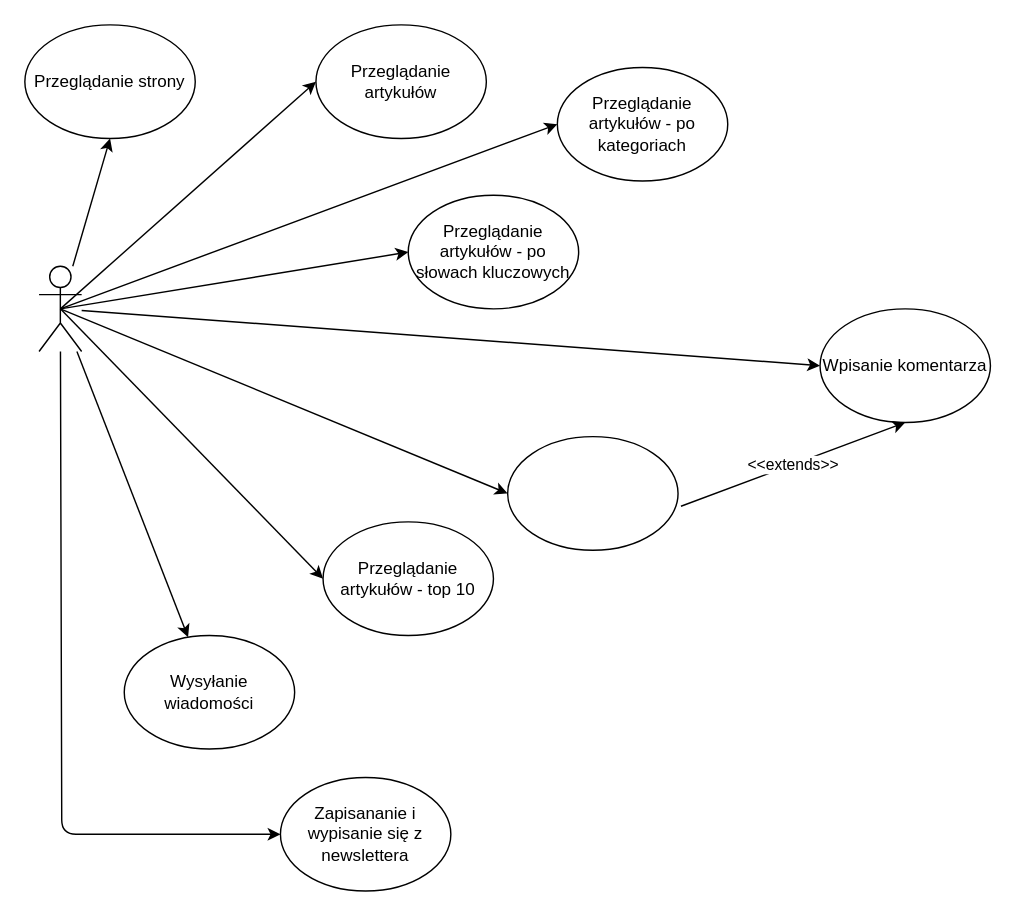
Some shapes in this 1015 by 916 pixel diagram are drawn without their labels. The shapes that lost their labels are listed below. From the top down, each one's box as (x1, y1, x2, y2) in pixels, then its label:
(38, 265, 82, 351): Gość
(506, 435, 678, 550): Czytanie artykułu
